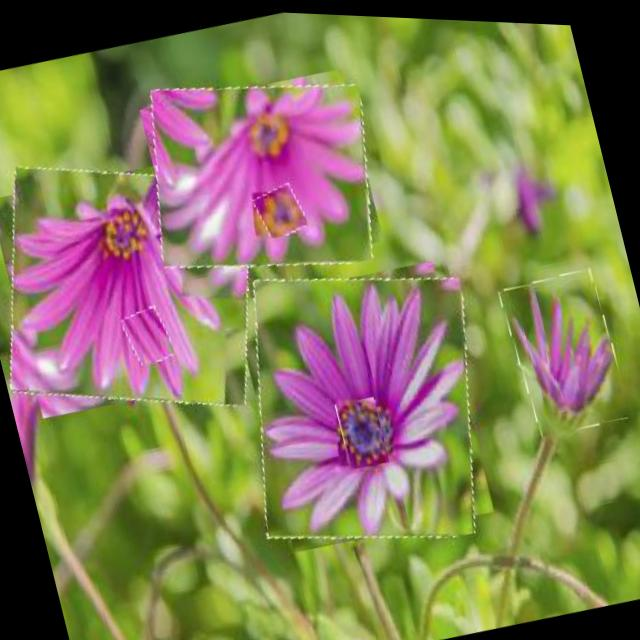Flower: (220, 238, 508, 569), (0, 127, 286, 443), (131, 48, 394, 299), (500, 259, 631, 437), (334, 391, 391, 469), (122, 302, 175, 366), (253, 179, 308, 238)
